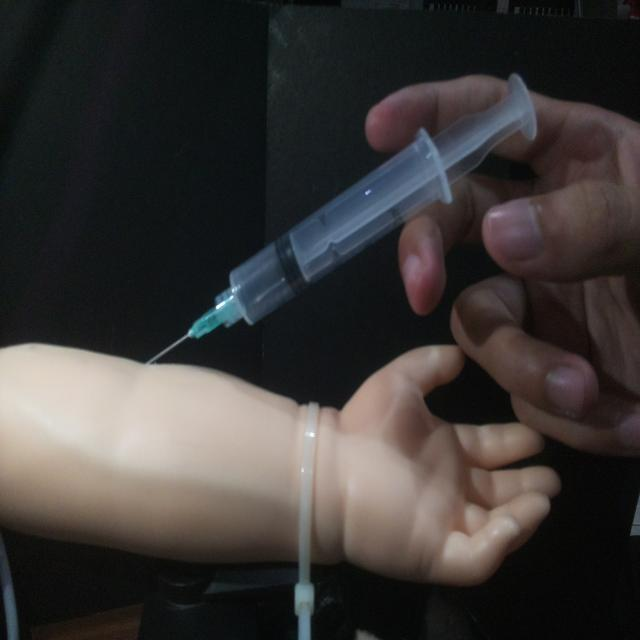27deg: (140, 68, 540, 367)
